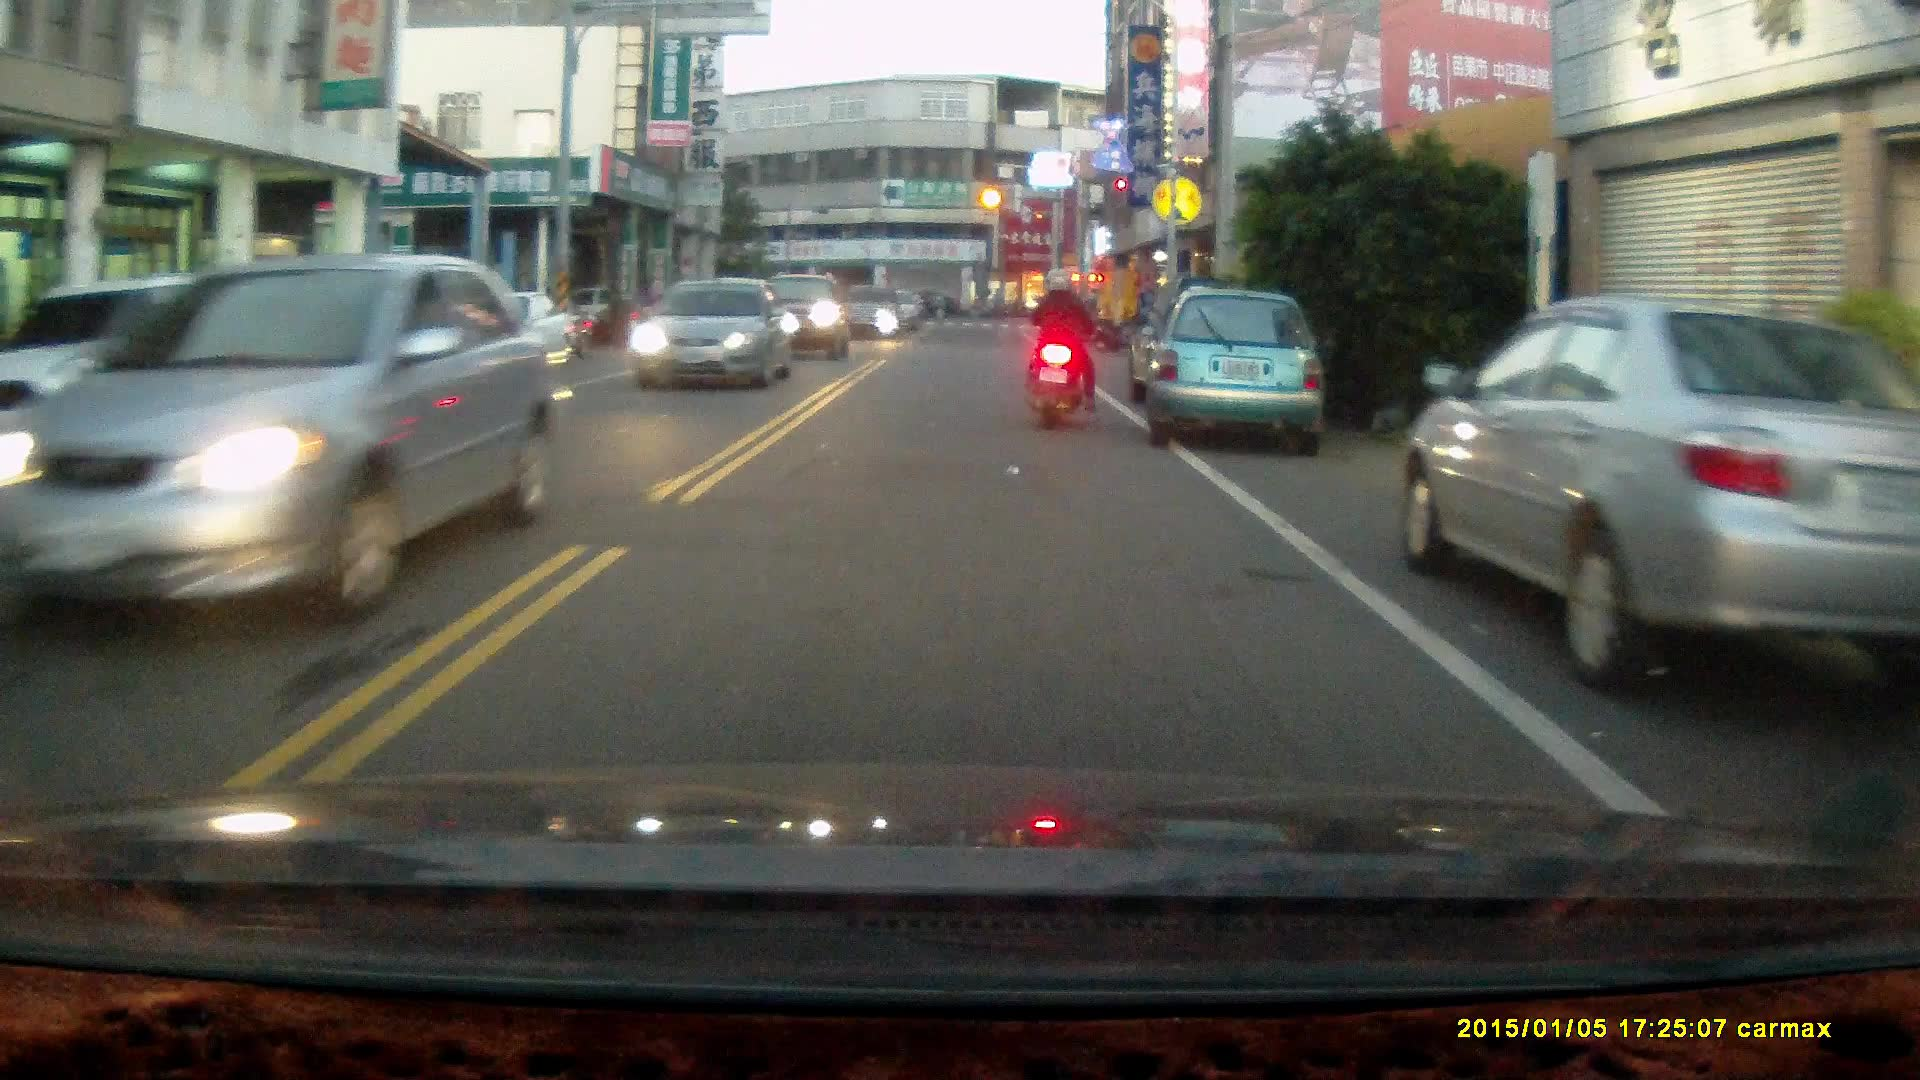rider: (1026, 263, 1106, 428)
vehicle: (1403, 295, 1920, 685), (11, 252, 548, 622), (1, 272, 304, 480), (1143, 290, 1324, 442), (635, 276, 792, 392), (730, 270, 858, 363)
